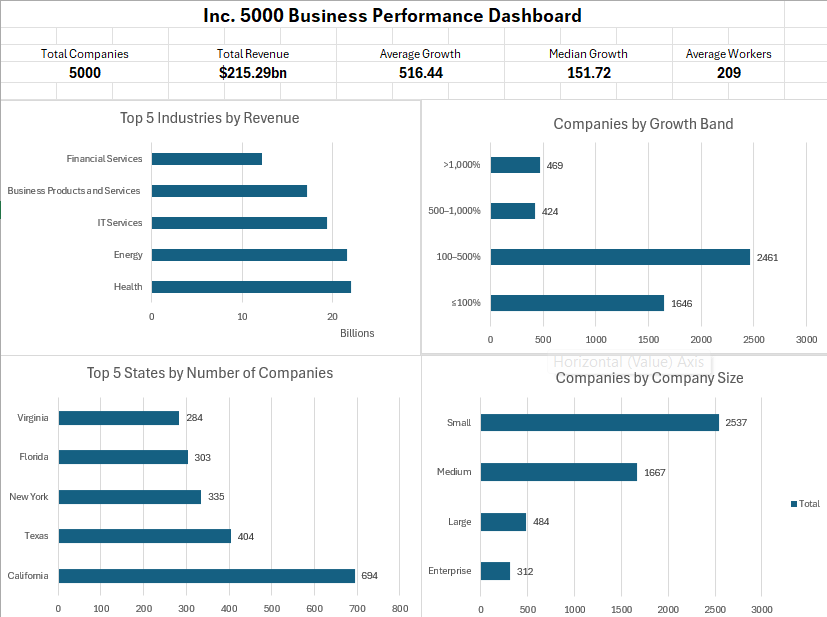

Layout of this report page (visuals, bound fields, positions):
{"tool":"powerbi","page":{"name":"Page 1","canvas":[1920,1080],"ordinal":0},"visuals":[{"type":"cardVisual","fields":{"Data":["inc5000_analysis companies.Total Companies"]},"box":[0,88.6,237.1,225.7],"z":0},{"type":"cardVisual","fields":{"Data":["inc5000_analysis companies.Total Revenue"]},"box":[485.7,88.6,252.9,225.7],"z":1},{"type":"cardVisual","fields":{"Data":["inc5000_analysis companies.Average Growth"]},"box":[738.6,88.6,251.4,225.7],"z":2},{"type":"cardVisual","fields":{"Data":["inc5000_analysis companies.Median Growth"]},"box":[990,88.6,237.1,225.7],"z":3},{"type":"cardVisual","fields":{"Data":["inc5000_analysis companies.Average Workers"]},"box":[237.1,88.6,248.6,225.7],"z":4},{"type":"clusteredBarChart","title":"Top 5 Industries by Revenue","fields":{"Category":["inc5000_analysis companies.industry"],"Y":["Sum(inc5000_analysis companies.revenue)"]},"box":[0,314.3,637.1,357.1],"z":5},{"type":"clusteredColumnChart","title":"Companies by Growth Band","fields":{"Category":["inc5000_analysis companies.Growth Band"],"Y":["CountNonNull(inc5000_analysis companies.Growth Band)"]},"box":[0,671.4,637.1,367.1],"z":6},{"type":"clusteredBarChart","title":"Top 5 States by Number of Companies","fields":{"Category":["inc5000_analysis companies.state_s"],"Y":["CountNonNull(inc5000_analysis companies.company)"]},"box":[637.1,314.3,590,357.1],"z":7},{"type":"clusteredColumnChart","title":"Companies by Company Size","fields":{"Category":["inc5000_analysis companies.Company Size"],"Y":["CountNonNull(inc5000_analysis companies.company)"]},"box":[637.1,671.4,590,367.1],"z":8},{"type":"textbox","box":[0,0,1227.1,52.9],"z":9},{"type":"textbox","box":[0,52.9,1227.1,35.7],"z":10}]}

Visuals, with their boxes on the page's 1920x1080 design canvas (x1, y1, x2, y2). These are canvas units, not pixel positions in the 827x617 screenshot, which may show the page scaled, cropped or inside an application window:
cardVisual - inc5000_analysis companies.Total Companies: box(0, 89, 237, 314)
cardVisual - inc5000_analysis companies.Total Revenue: box(486, 89, 739, 314)
cardVisual - inc5000_analysis companies.Average Growth: box(739, 89, 990, 314)
cardVisual - inc5000_analysis companies.Median Growth: box(990, 89, 1227, 314)
cardVisual - inc5000_analysis companies.Average Workers: box(237, 89, 486, 314)
"Top 5 Industries by Revenue" clusteredBarChart: box(0, 314, 637, 671)
"Companies by Growth Band" clusteredColumnChart: box(0, 671, 637, 1038)
"Top 5 States by Number of Companies" clusteredBarChart: box(637, 314, 1227, 671)
"Companies by Company Size" clusteredColumnChart: box(637, 671, 1227, 1038)
textbox: box(0, 0, 1227, 53)
textbox: box(0, 53, 1227, 89)
